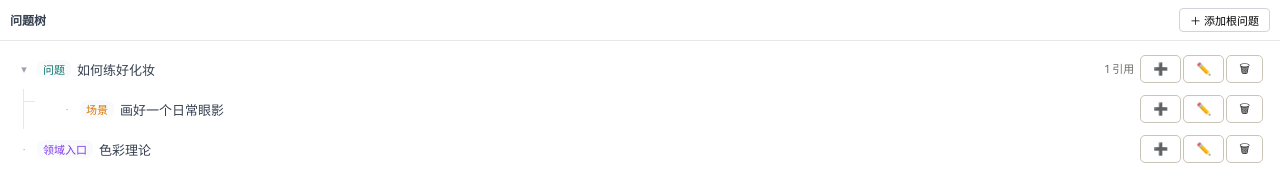
KnowledgeTreeView 问题树 › v0.13.9 折叠后引导线随子树隐藏
What coordinates should you click on to do the following:
click the text with test id "node-toggle-1"
I would click on:
 (24, 68)
Its box is x1=21 y1=62 x2=27 y2=74.
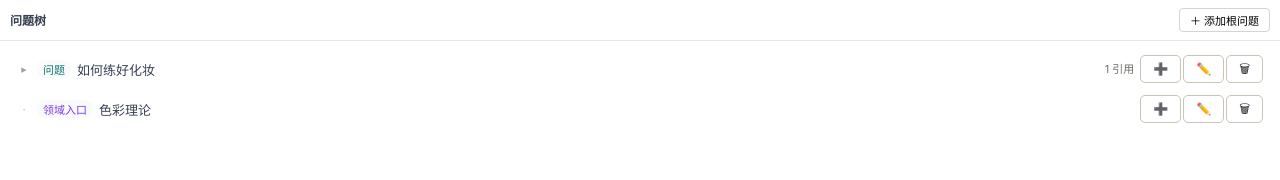
Expected: the element with test id "node-2" is gone
